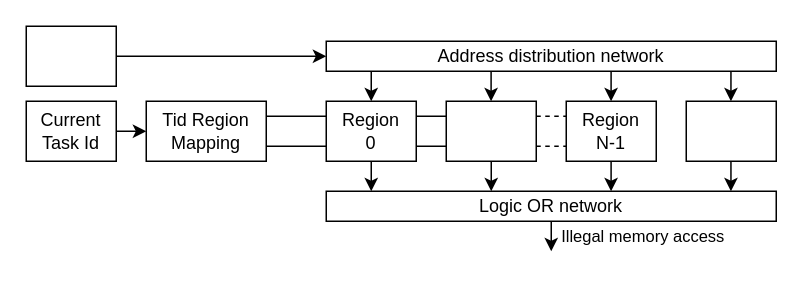
This 803x290 diagram has some shape labels left out. Each missing label, with the box of its shape:
PC/DM address: (25, 25, 116, 86)
Region 1: (445, 100, 536, 161)
Stack Protect: (685, 100, 776, 161)
